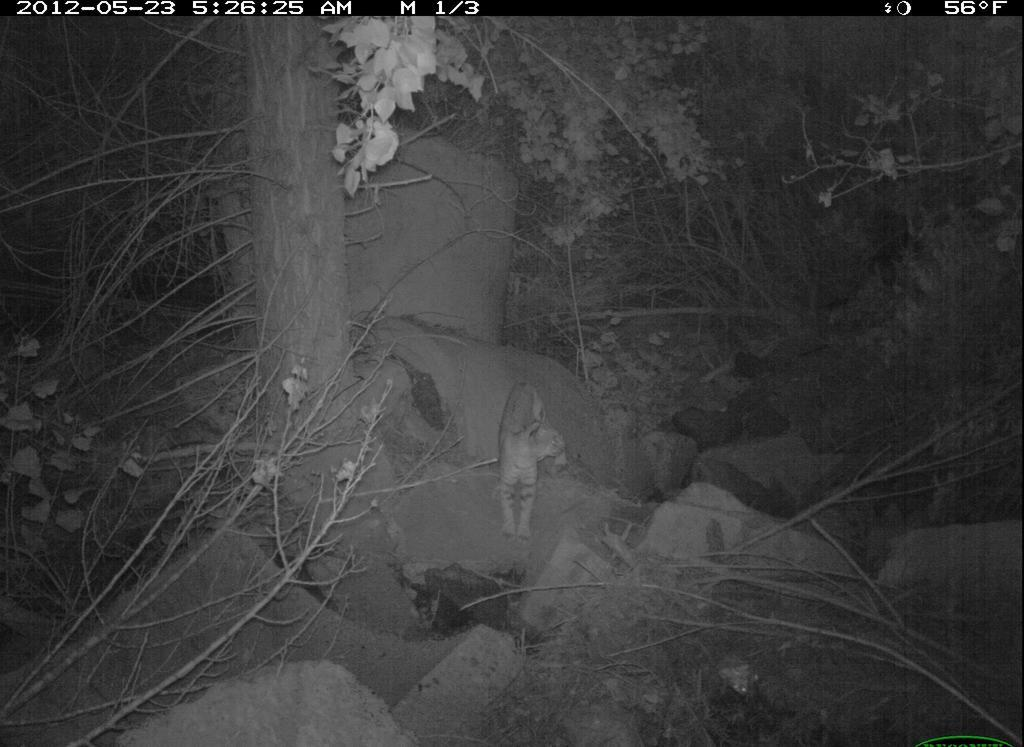bobcat: (474, 342, 583, 585)
